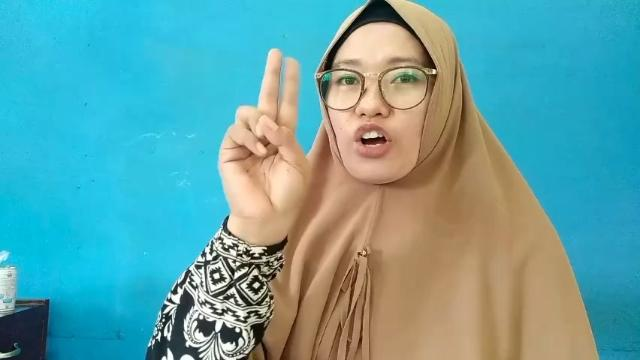U: (220, 43, 314, 227)
